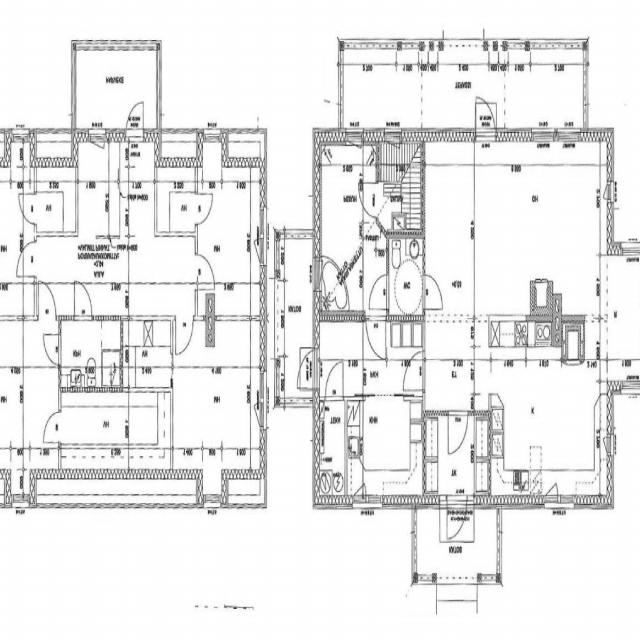door: (446, 496, 466, 548), (293, 349, 319, 388), (476, 89, 495, 141), (125, 93, 144, 142), (402, 351, 425, 390), (448, 410, 468, 454), (366, 316, 386, 359), (38, 280, 56, 320), (16, 242, 37, 276), (74, 282, 92, 321), (422, 274, 442, 309), (195, 255, 215, 290), (359, 183, 379, 217), (369, 275, 389, 309), (326, 362, 343, 401), (176, 315, 193, 354), (43, 411, 61, 443), (18, 193, 36, 224), (43, 334, 61, 364), (195, 194, 212, 224)
